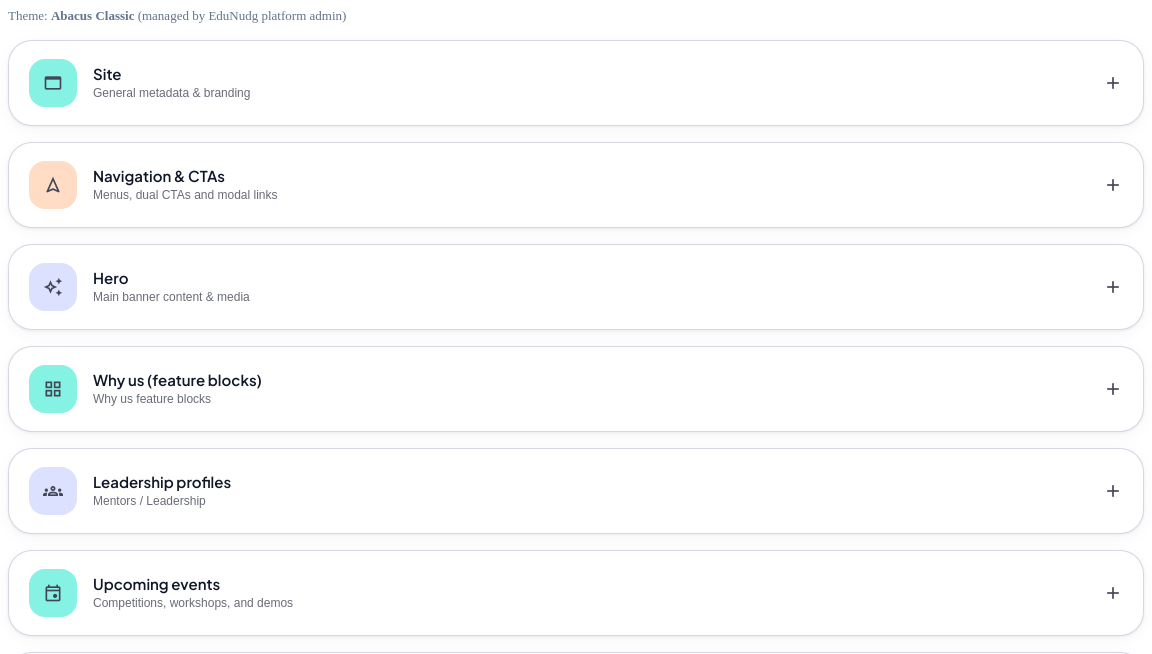
AbacusClassicEditorForm navigation › regression_nav_link_dropdown_lists_founders_anchor
Click the button "Navigation & CTAs Menus, dual CTAs and modal links" at coordinates (53, 185), box [9, 143, 1143, 227]
(page scrolled)
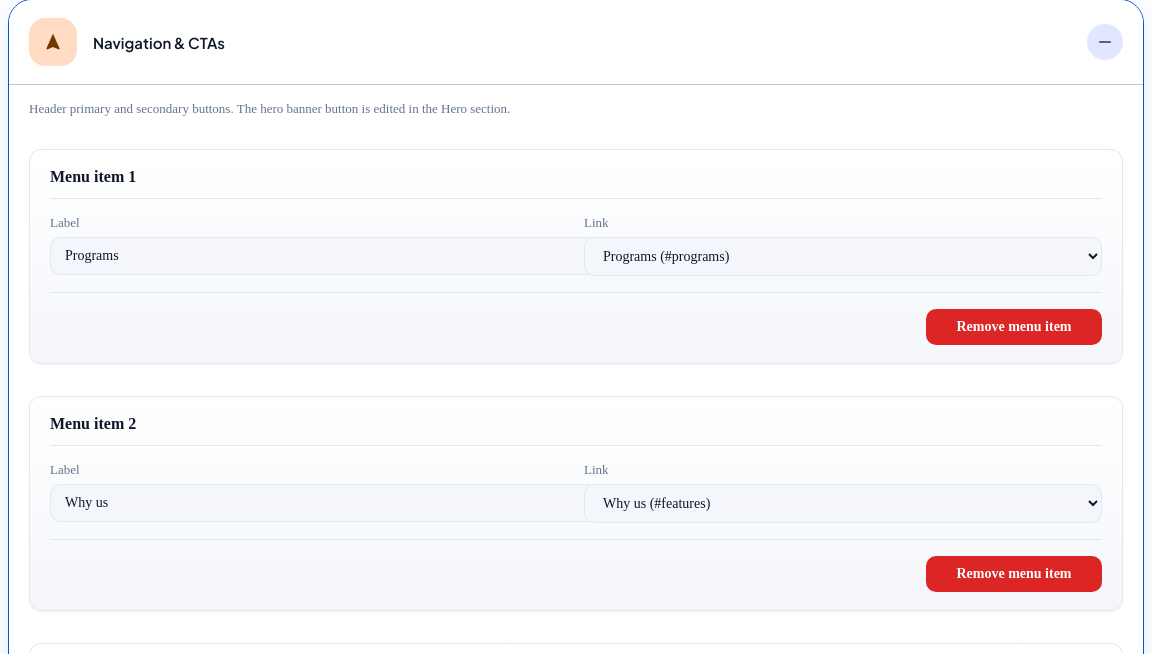
Expected: the text "Menu item 1" is shown, [50, 168, 136, 185]
